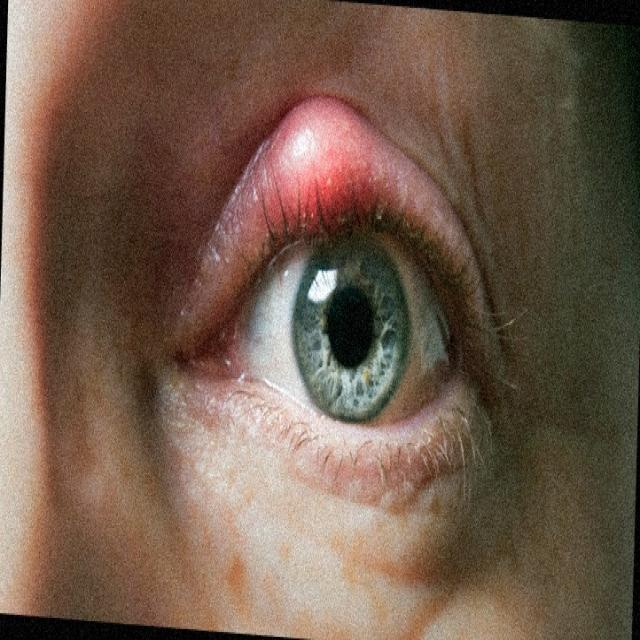Chalazion: (190, 84, 503, 505)
